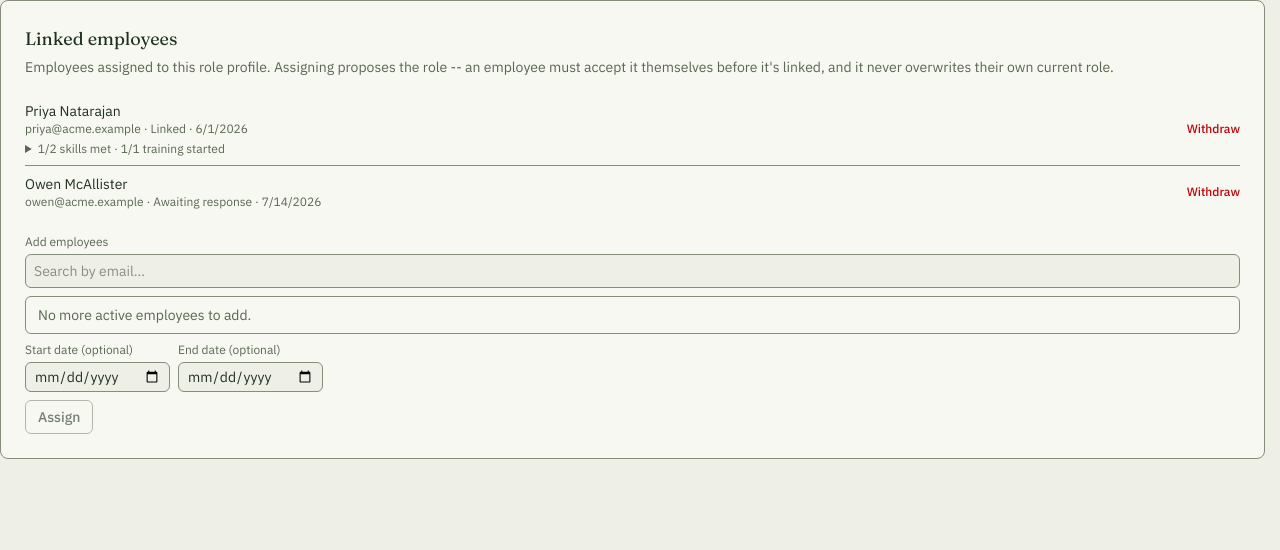
Scenario: RoleProfileLinkedEmployeesPanel › summarizes readiness for a linked employee against required skills and training
The image size is (1280, 550).
Click the heading "1/2 skills met · 1/1 training started" at point(131, 148), box [38,141,225,156]
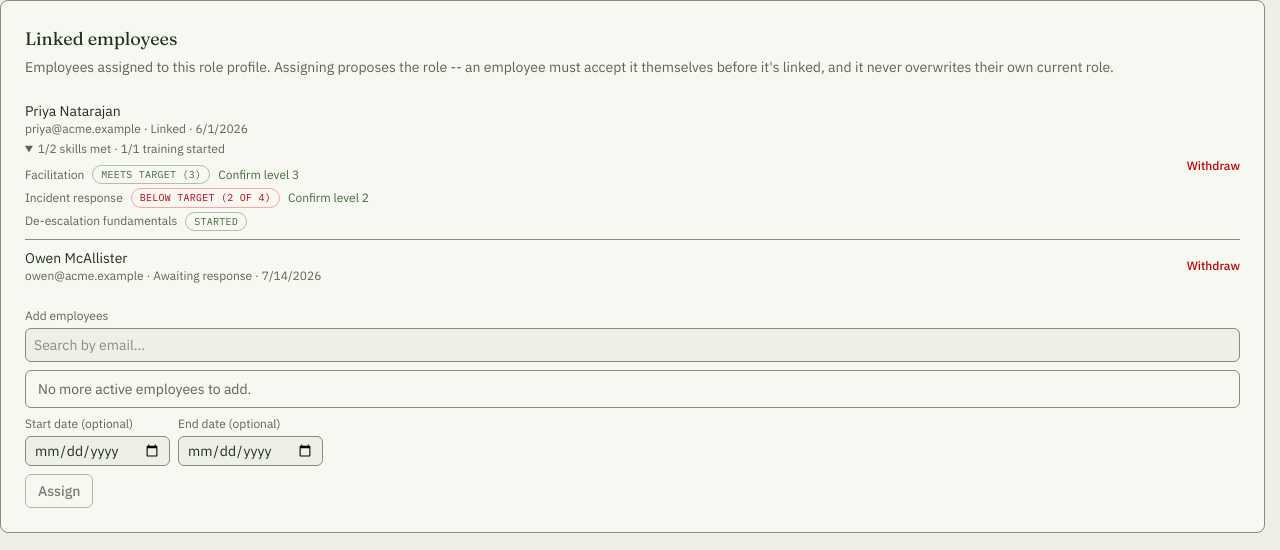
Expected: the text "Meets target (3)" is shown, [92,165,210,184]
Expected: the text "Below target (2 of 4)" is shown, [131,188,280,208]
Expected: the text "Started" is shown, [185,212,247,231]
